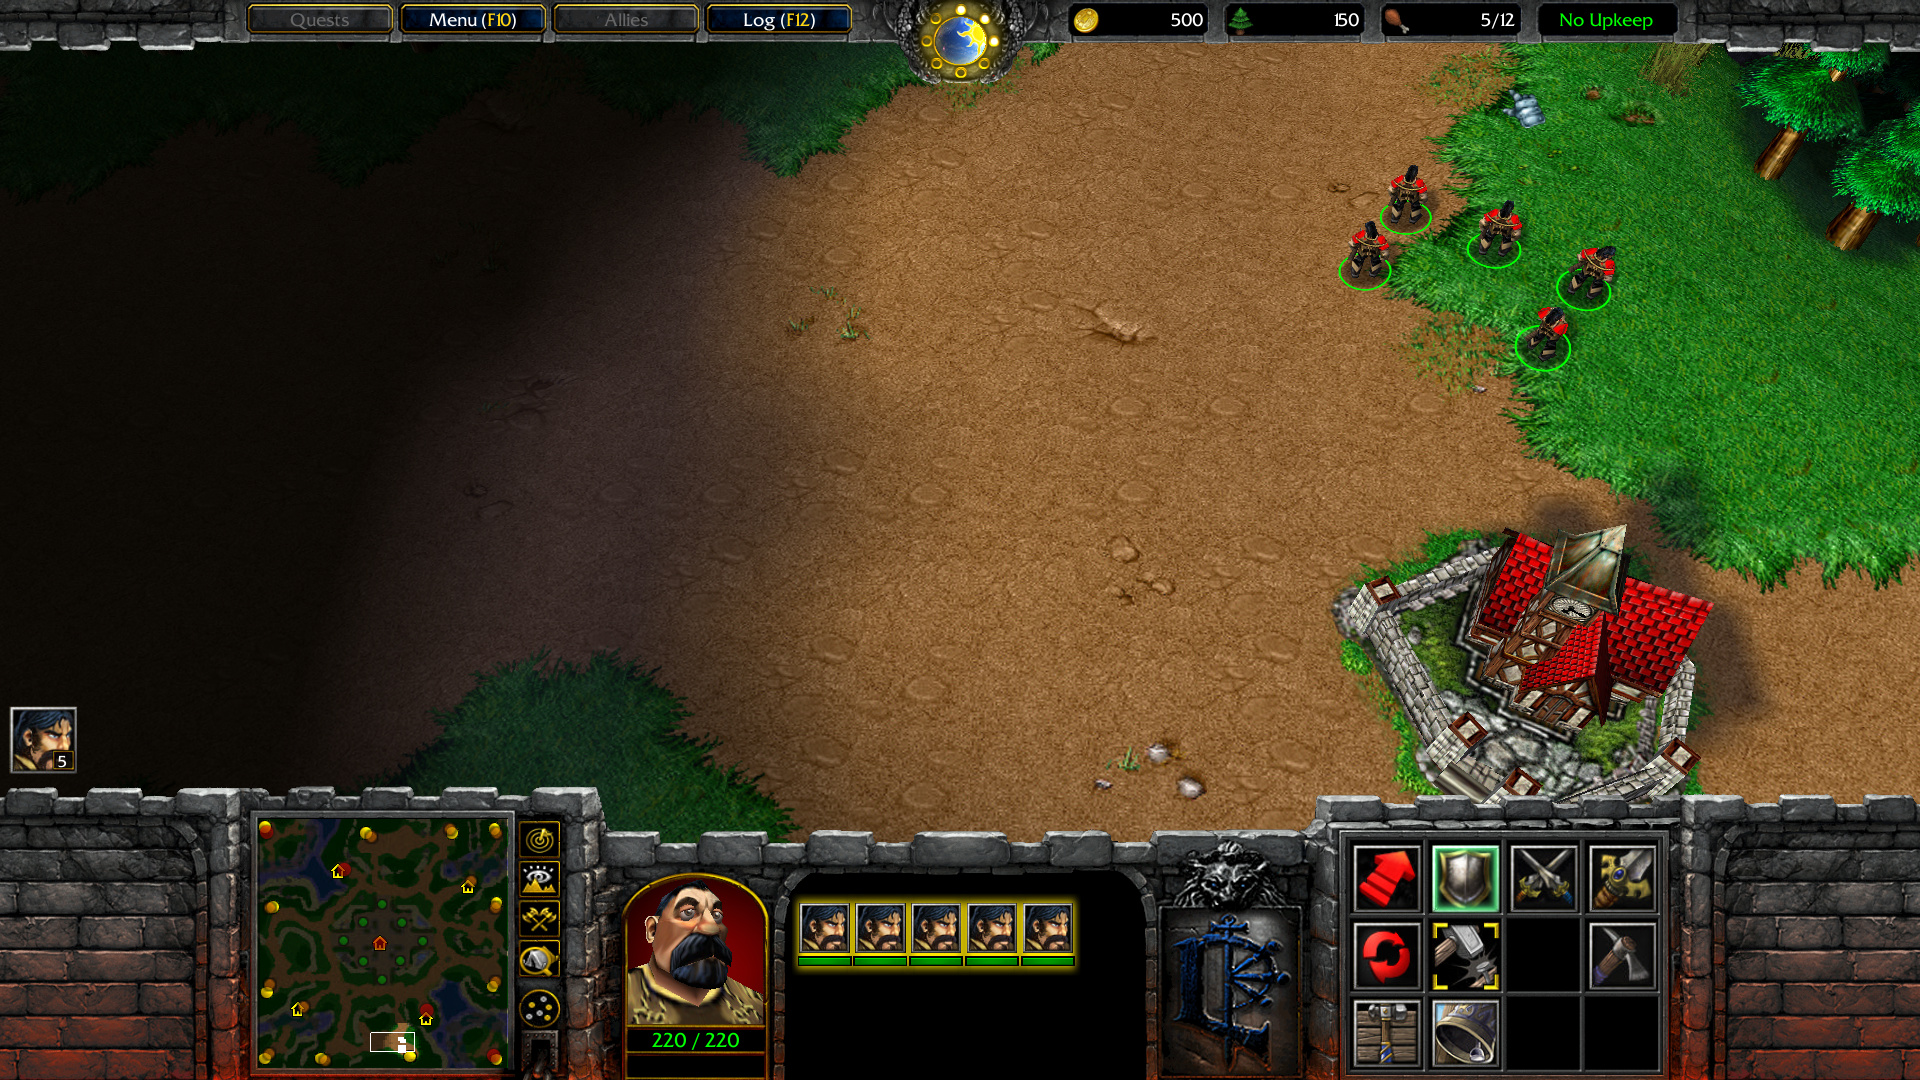Townhall: (1325, 513, 1726, 790)
